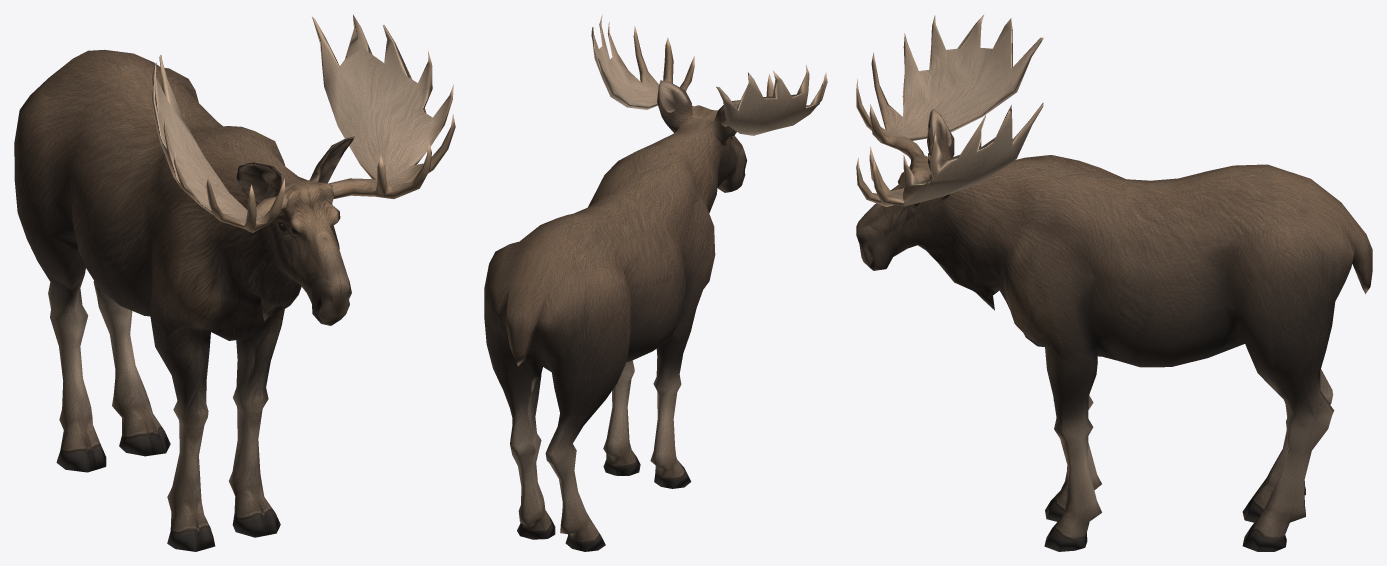
File: quebec.fbx
3 views of the same model, side by side, from view 1: azimuth 30°, elevation 25°; view 2: azimuth 150°, elevation 25°; view 3: azimuth 270°, elevation 25° (orthographic). The views are drawn at different scales.
Parts seen in each view (by area): view 1: Mesh_0; view 2: Mesh_0; view 3: Mesh_0.
Boxes of the visible parts, x1,y1,x2,y2 form: Mesh_0: (14, 14, 455, 551); Mesh_0: (484, 15, 827, 551); Mesh_0: (856, 14, 1372, 551).
Bounding box in the file's own units: 56.05 × 100 × 100.
1 material, 1 textured.
